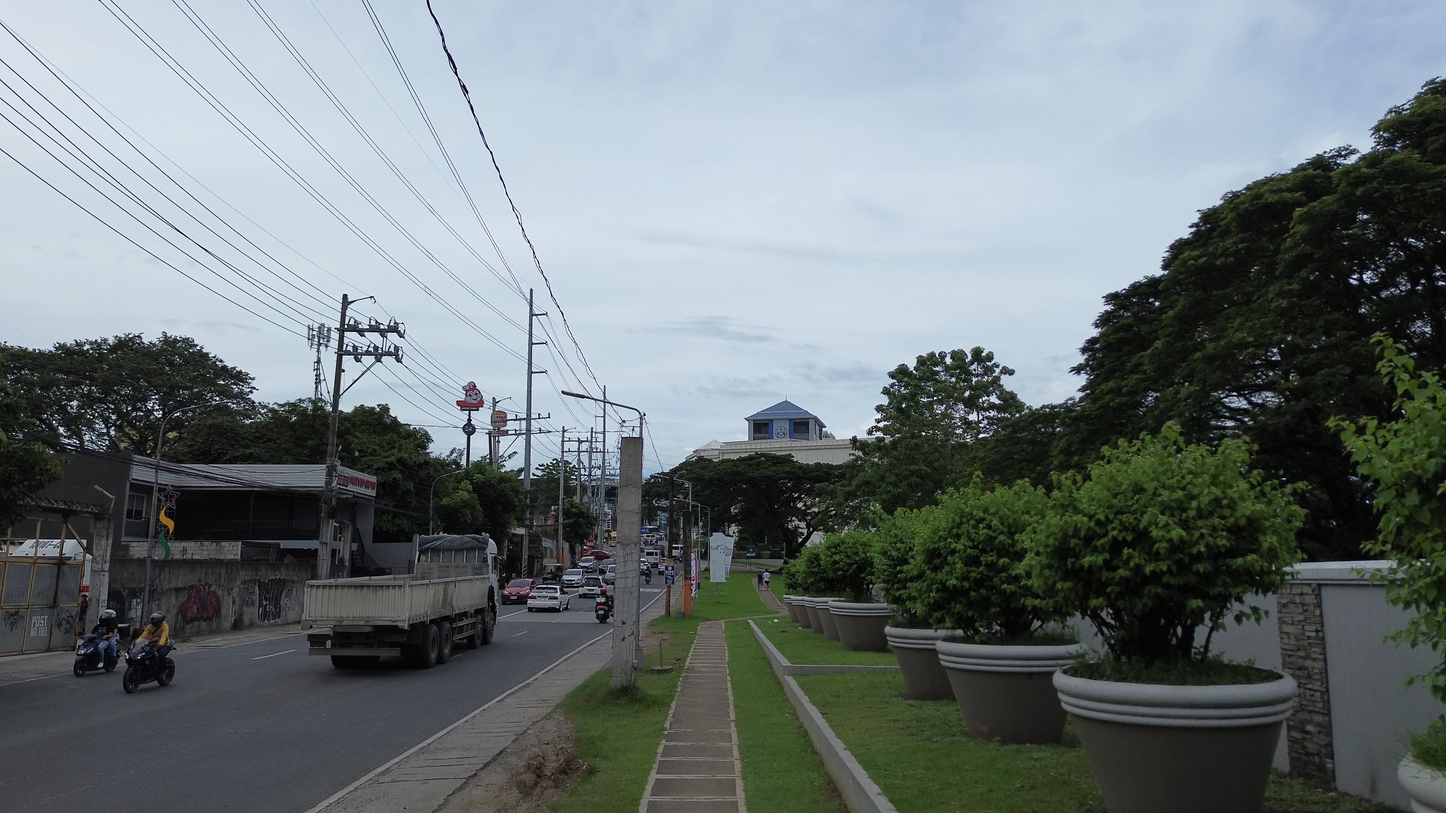car: (501, 578, 536, 604)
motorcycle: (595, 597, 612, 623)
vehicle: (302, 541, 500, 668), (122, 641, 175, 693), (73, 634, 118, 677), (528, 585, 570, 612), (578, 575, 604, 597), (562, 568, 585, 588), (642, 548, 662, 568), (577, 555, 598, 572), (599, 563, 616, 583)
